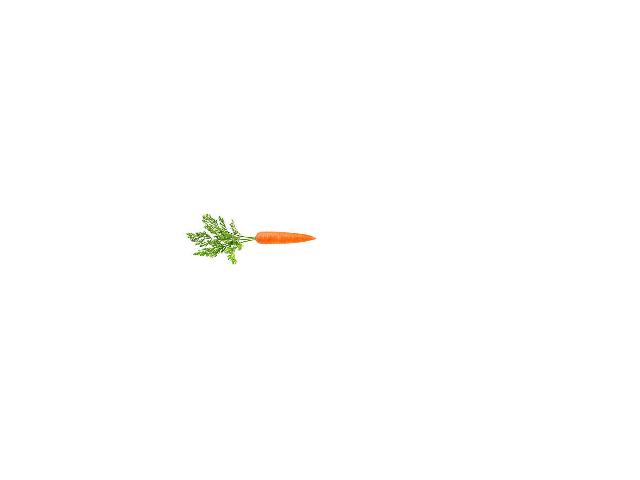carrot: (253, 231, 318, 247)
